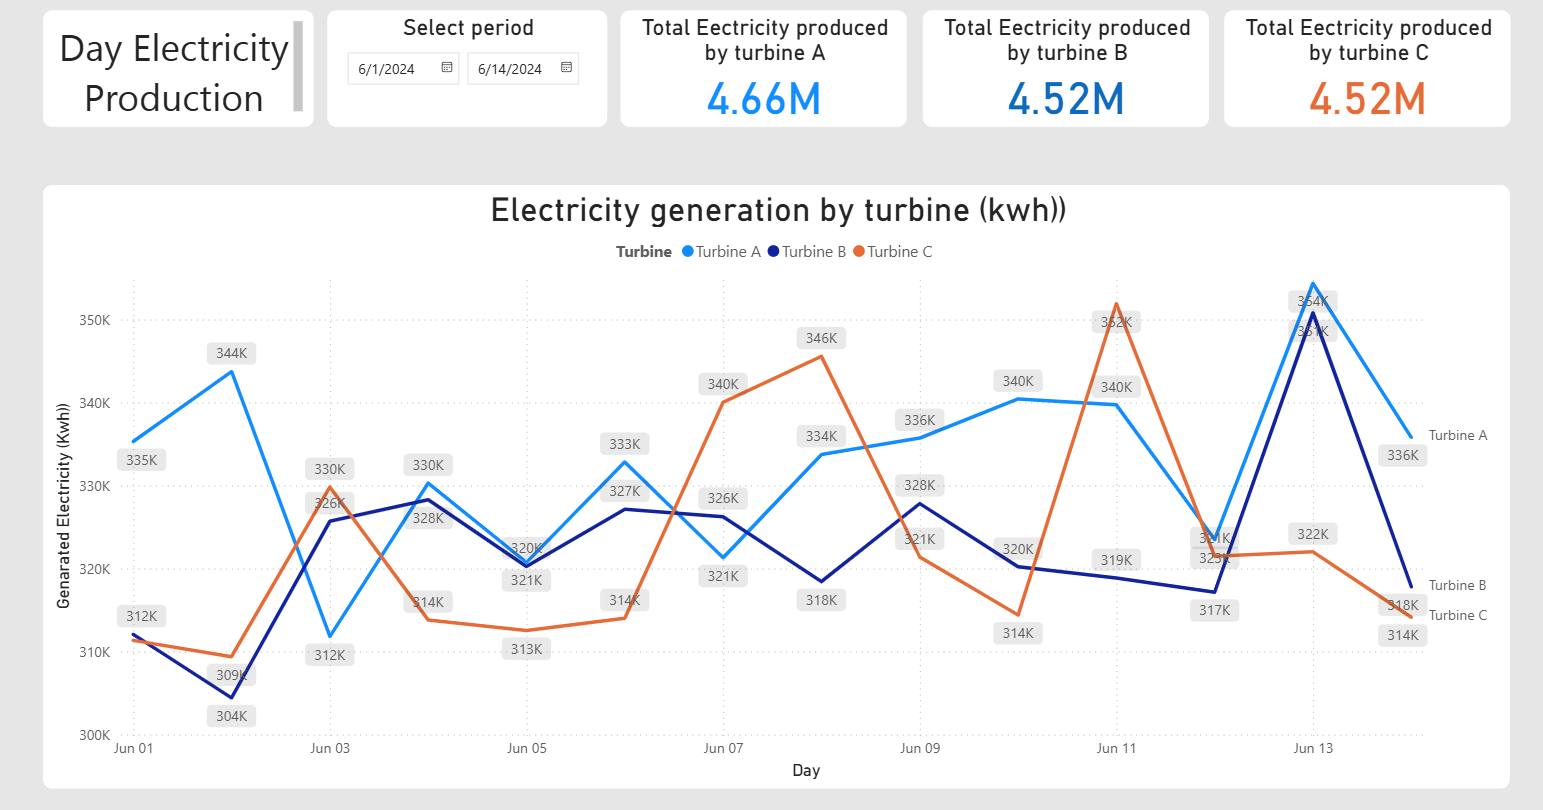

This screenshot's page, from the dashboard's own definition file:
{"tool":"powerbi","page":{"name":"Daily Electricity Production","canvas":[1280,720],"ordinal":0},"visuals":[{"type":"lineChart","title":"Electricity generation by turbine (kwh))","fields":{"Category":["fact_wind_power_production.date_id"],"Y":["Sum(fact_wind_power_production.energy_produced)"],"Series":["dim_turbine.turbine_name"]},"box":[12.8,169.7,1257.8,517.7],"z":0},{"type":"card","title":"Total Eectricity produced by turbine A","fields":{"Values":["Sum(fact_wind_power_production.energy_produced)"]},"box":[507.7,20,245.3,99.8],"z":1000},{"type":"card","title":"Total Eectricity produced by turbine B","fields":{"Values":["Sum(fact_wind_power_production.energy_produced)"]},"box":[767.2,20,245.3,99.8],"z":2000},{"type":"card","title":"Total Eectricity produced by turbine C","fields":{"Values":["Sum(fact_wind_power_production.energy_produced)"]},"box":[1025.3,20,245.3,99.8],"z":3000},{"type":"slicer","title":"Select period","fields":{"Values":["fact_wind_power_production.date_id"]},"box":[256.7,20,239.6,99.8],"z":4000},{"type":"textbox","box":[12.8,20,232.4,99.8],"z":5000}]}

Visuals, with their boxes on the page's 1280x720 design canvas (x1, y1, x2, y2). These are canvas units, not pixel positions in the 1543x810 screenshot, which may show the page scaled, cropped or inside an application window:
"Electricity generation by turbine (kwh))" lineChart: (13, 170, 1271, 687)
"Total Eectricity produced by turbine A" card: (508, 20, 753, 120)
"Total Eectricity produced by turbine B" card: (767, 20, 1012, 120)
"Total Eectricity produced by turbine C" card: (1025, 20, 1271, 120)
"Select period" slicer: (257, 20, 496, 120)
textbox: (13, 20, 245, 120)
